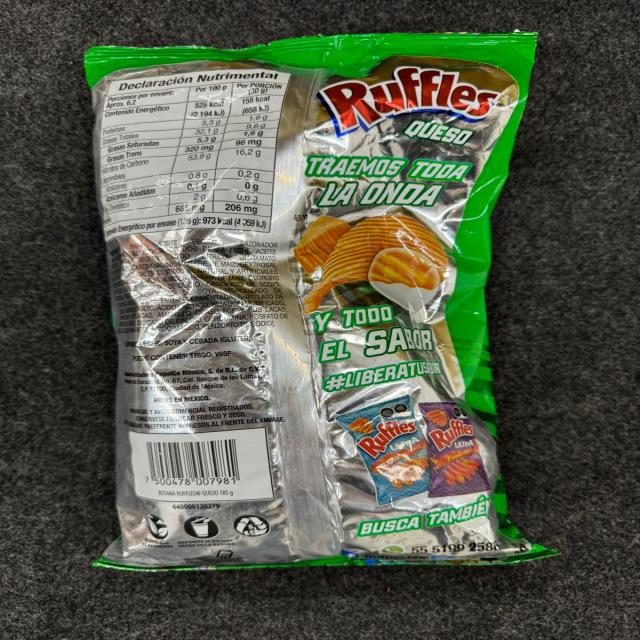RUFFLES QUESO 185GR: (78, 30, 572, 582)
